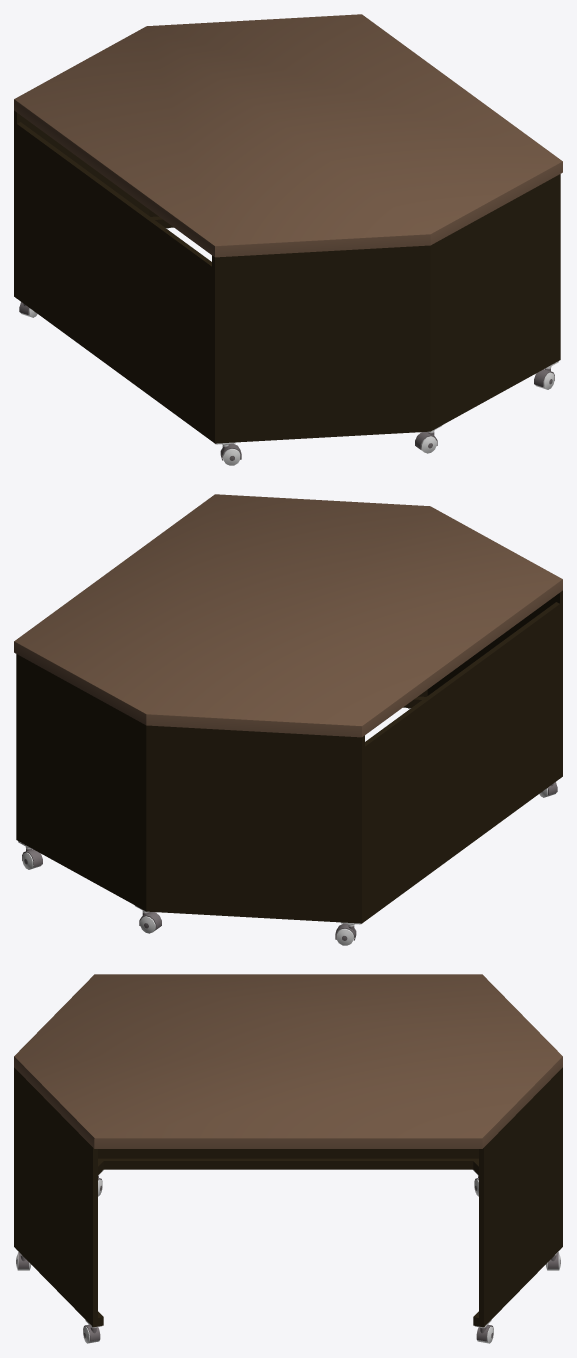
File: Dgsdesk3.fbx
3 views of the same model, one above another, from view 1: azimuth 30°, elevation 25°; view 2: azimuth 150°, elevation 25°; view 3: azimuth 270°, elevation 25° (orthographic). The views are drawn at different scales.
Parts seen in each view (by area): view 1: 4' Table; view 2: 4' Table; view 3: 4' Table.
Part boxes in pixels (x1,y1,x2,y2): 4' Table: (14, 14, 562, 465); 4' Table: (14, 494, 562, 945); 4' Table: (14, 974, 562, 1343).
Bounding box in the file's own units: 122 × 73.7 × 172.
